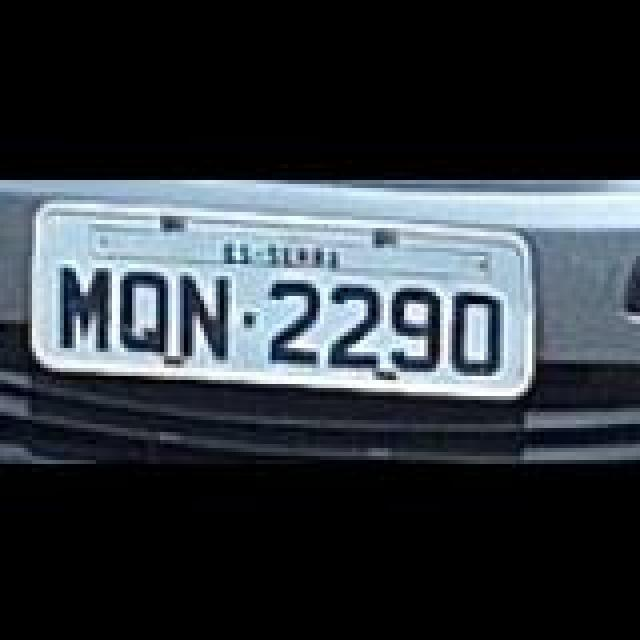2: (328, 280, 384, 368), (268, 278, 324, 362)
9: (388, 284, 444, 372)
D: (452, 290, 508, 374)
M: (62, 260, 114, 348)
N: (184, 272, 232, 360)
Q: (122, 270, 174, 354)
